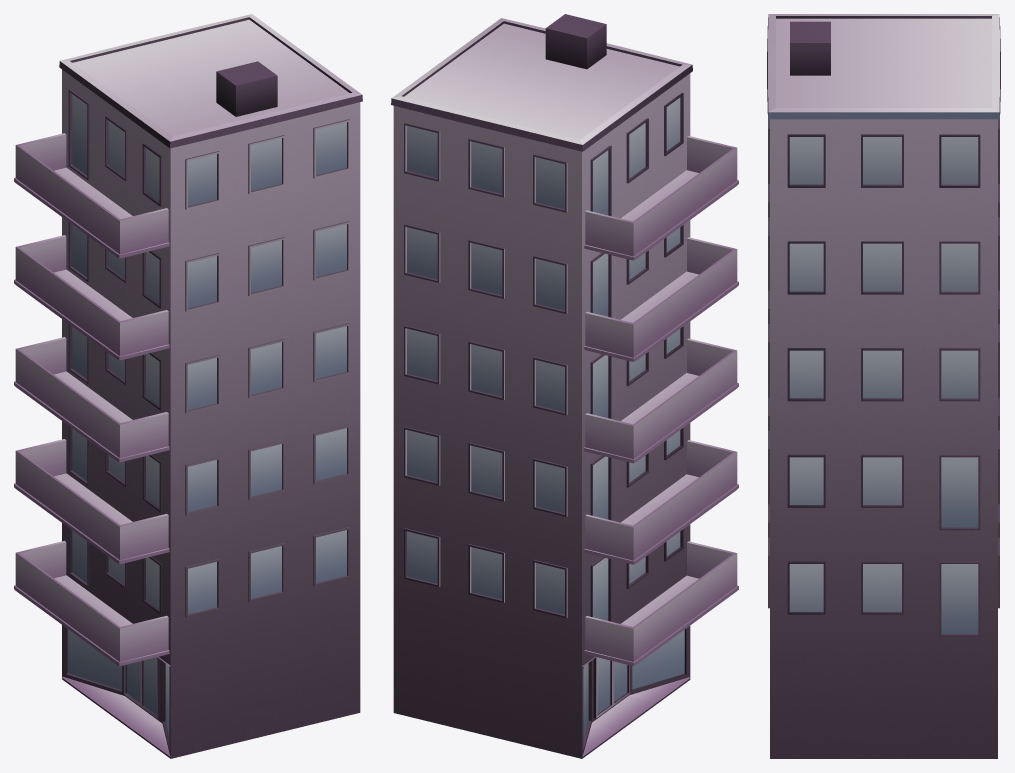
Rendered from miami_building_001b.FBX.
3 views of the same model, side by side, from view 1: azimuth 30°, elevation 25°; view 2: azimuth 150°, elevation 25°; view 3: azimuth 270°, elevation 25° (orthographic). The views are drawn at different scales.
Parts seen in each view (by area): view 1: Box001; view 2: Box001; view 3: Box001.
Part boxes in pixels (box(x1,y1,x2,y2)): Box001: box(14, 14, 362, 758); Box001: box(391, 14, 738, 758); Box001: box(767, 14, 1000, 758).
Bounding box in the file's own units: 298 × 763 × 238.
